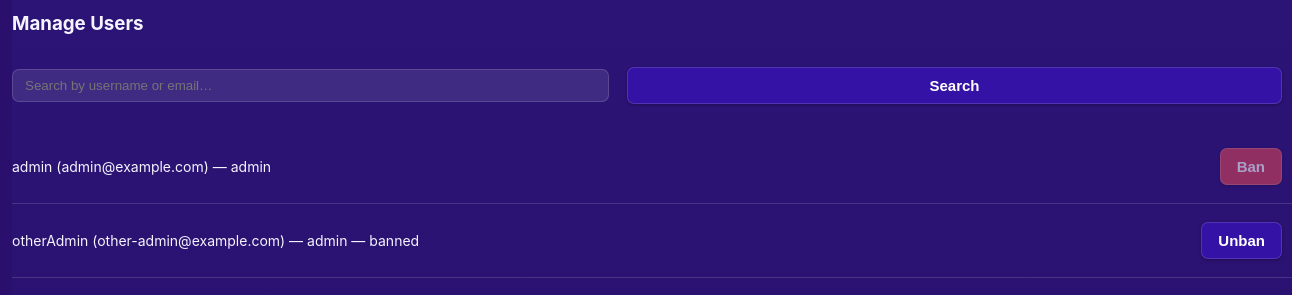
Scenario: ManageUsersPage › disables the Ban button for a fellow admin, with a reason exposed, but allows unbanning one
The image size is (1292, 295).
Click the button "Unban". click: (1242,240)
box: x1=1201 y1=222 x2=1282 y2=258
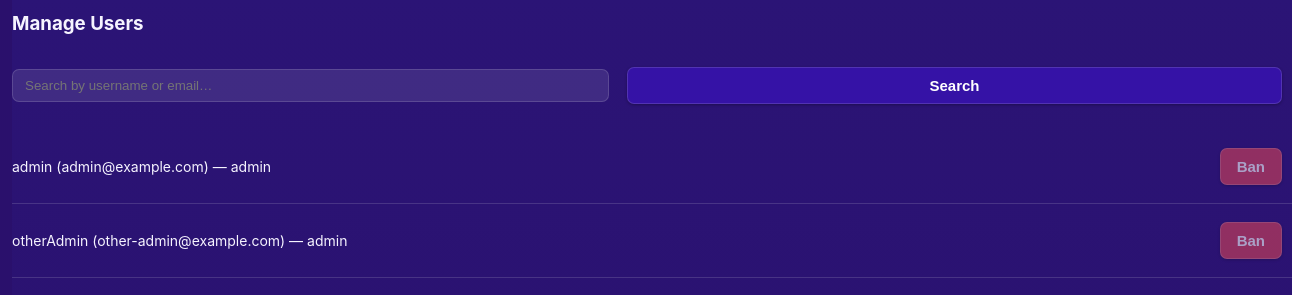
Now the button "Ban" in the row of "otherAdmin" is disabled, box x1=1220 y1=222 x2=1282 y2=258
